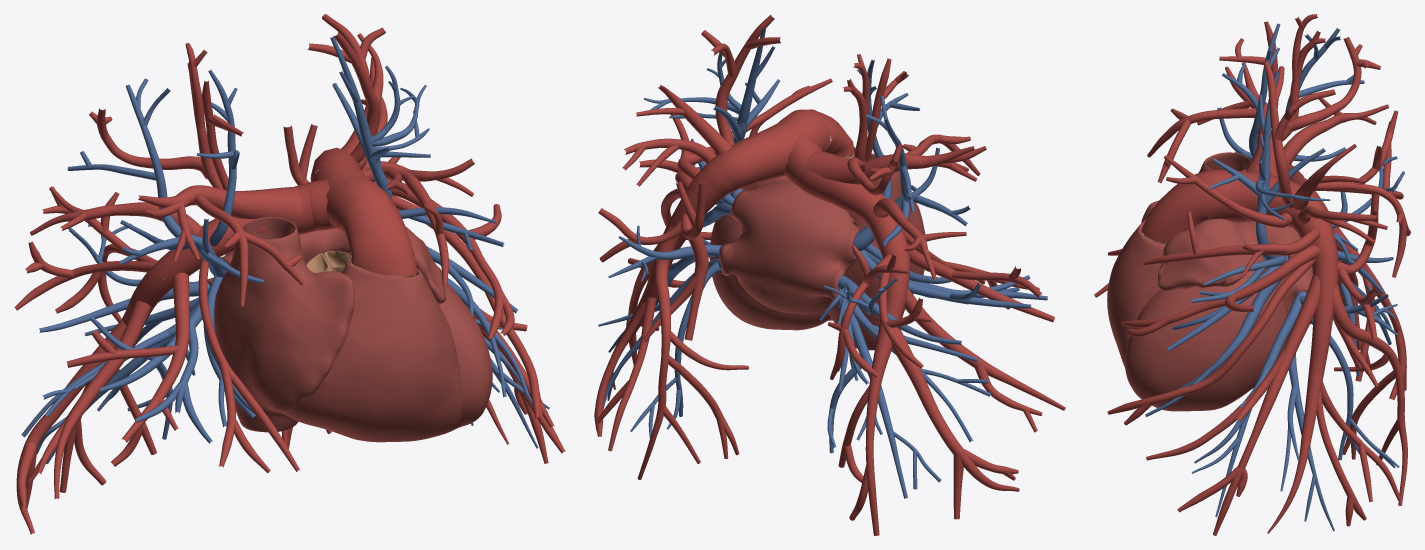
The model's file is cardiovascular-system.glb.
3 renders of one model, left to right at view 1: azimuth 30°, elevation 25°; view 2: azimuth 150°, elevation 25°; view 3: azimuth 270°, elevation 25°, orthographic. The views are drawn at different scales.
Parts seen in each view (by area): view 1: right-ventricle, right-atrium, real-pulmonary-arteries-pulmonary-trunk, real-pulmonary-arteries-anterior-segmental-artery-of-right-l, real-pulmonary-arteries-apical-segmental-artery-of-right-lun, real-pulmonary-arteries-superior-segmental-artery-of-right-l, real-pulmonary-arteries-bifurcation-of-pulmonary-trunk, real-pulmonary-veins-apicoposterior-vein-of-left-lung, left-ventricle, real-pulmonary-arteries-lateral-segmental-artery-of-right-lu, real-pulmonary-arteries-medial-segmental-artery-of-right-lun, real-pulmonary-veins-posterior-vein-of-right-lung (+27 smaller); view 2: left-atrium, real-pulmonary-arteries-posterior-basal-segmental-artery-of- (×2), real-pulmonary-arteries-left-pulmonary-artery, left-ventricle, real-pulmonary-arteries-superior-segmental-artery-of-right-l, real-pulmonary-arteries-anterior-basal-segmental-artery-of-r, real-pulmonary-arteries-apical-segmental-artery-of-right-lun, real-pulmonary-arteries-anterior-basal-segmental-artery-of-l, real-pulmonary-arteries-bifurcation-of-pulmonary-trunk, real-pulmonary-arteries-posterior-segmental-artery-of-left-l, real-pulmonary-veins-apicoposterior-vein-of-left-lung, real-pulmonary-veins-inferior-basal-vein-of-right-lung (+26 smaller); view 3: left-ventricle, left-atrium, real-pulmonary-arteries-lateral-basal-segmental-artery-of-le, real-pulmonary-arteries-posterior-basal-segmental-artery-of- (×2), right-ventricle, real-pulmonary-arteries-anterior-basal-segmental-artery-of-l, real-pulmonary-arteries-left-pulmonary-artery, real-pulmonary-arteries-anterior-segmental-artery-of-left-lu, real-pulmonary-arteries-apical-segmental-artery-of-right-lun, real-pulmonary-veins-apicoposterior-vein-of-left-lung, real-pulmonary-arteries-superior-lingular-artery-of-left-lun, real-pulmonary-arteries-inferior-lingular-artery-of-left-lun (+23 smaller).
Part boxes in pixels (x1,y1,x2,y2): right-ventricle: (284,260,462,442); right-atrium: (214,217,354,432); real-pulmonary-arteries-pulmonary-trunk: (339,197,417,276); real-pulmonary-arteries-anterior-segmental-artery-of-right-l: (138,185,304,306); real-pulmonary-arteries-apical-segmental-artery-of-right-lun: (89,43,243,190); real-pulmonary-arteries-superior-segmental-artery-of-right-l: (14,186,159,322); real-pulmonary-arteries-bifurcation-of-pulmonary-trunk: (294,159,392,233); real-pulmonary-veins-apicoposterior-vein-of-left-lung: (330,37,430,199); left-ventricle: (347,253,492,427); real-pulmonary-arteries-lateral-segmental-artery-of-right-lu: (66,272,189,442); real-pulmonary-arteries-medial-segmental-artery-of-right-lun: (198,260,299,473); real-pulmonary-veins-posterior-vein-of-right-lung: (67,78,198,265); left-atrium: (719,174,859,314); real-pulmonary-arteries-posterior-basal-segmental-artery-of- (×2): (637,225,892,535); real-pulmonary-arteries-left-pulmonary-artery: (645,132,781,296); left-ventricle: (709,214,830,330); real-pulmonary-arteries-superior-segmental-artery-of-right-l: (828,245,931,379); real-pulmonary-arteries-anterior-basal-segmental-artery-of-r: (891,327,1019,519); real-pulmonary-arteries-apical-segmental-artery-of-right-lun: (843,54,908,195); real-pulmonary-arteries-anterior-basal-segmental-artery-of-l: (594,288,657,451); real-pulmonary-arteries-bifurcation-of-pulmonary-trunk: (759,109,830,185); real-pulmonary-arteries-posterior-segmental-artery-of-left-l: (622,84,731,186); real-pulmonary-veins-apicoposterior-vein-of-left-lung: (643,28,779,195); real-pulmonary-veins-inferior-basal-vein-of-right-lung: (827,303,941,498); left-ventricle: (1125,270,1287,411); left-atrium: (1158,218,1312,315); real-pulmonary-arteries-lateral-basal-segmental-artery-of-le: (1146,273,1320,535); real-pulmonary-arteries-posterior-basal-segmental-artery-of- (×2): (1333,227,1407,505); right-ventricle: (1107,219,1165,367); real-pulmonary-arteries-anterior-basal-segmental-artery-of-l: (1267,375,1401,533); real-pulmonary-arteries-left-pulmonary-artery: (1266,176,1338,376); real-pulmonary-arteries-anterior-segmental-artery-of-left-lu: (1143,155,1319,275); real-pulmonary-arteries-apical-segmental-artery-of-right-lun: (1219,14,1380,141); real-pulmonary-veins-apicoposterior-vein-of-left-lung: (1209,72,1330,260); real-pulmonary-arteries-superior-lingular-artery-of-left-lun: (1121,245,1319,336); real-pulmonary-arteries-inferior-lingular-artery-of-left-lun: (1107,258,1316,425).
Bounding box in the file's own units: 0.256 × 0.2397 × 0.1658.
